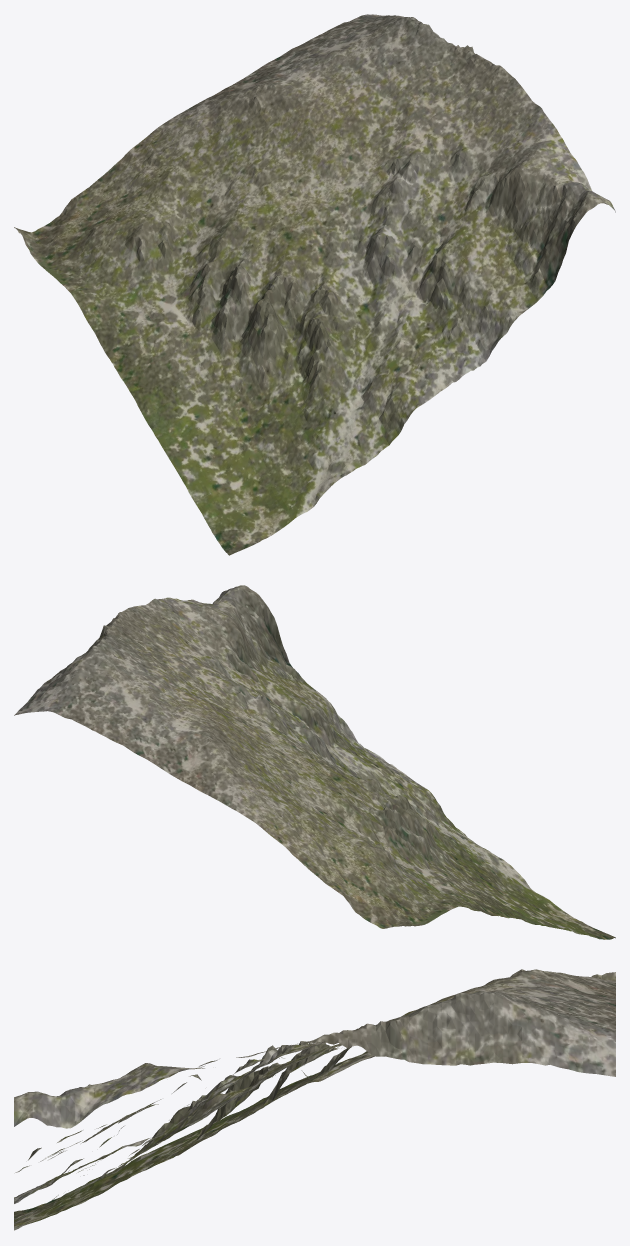
3 views of the same model, one above another, from view 1: azimuth 30°, elevation 25°; view 2: azimuth 150°, elevation 25°; view 3: azimuth 270°, elevation 25° (orthographic). The views are drawn at different scales.
Bounding box in the file's own units: 500 × 407 × 481.
Materials: 1 (1 with a texture image).
